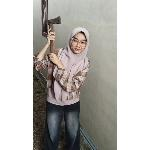Kapak: (45, 14, 67, 62)
